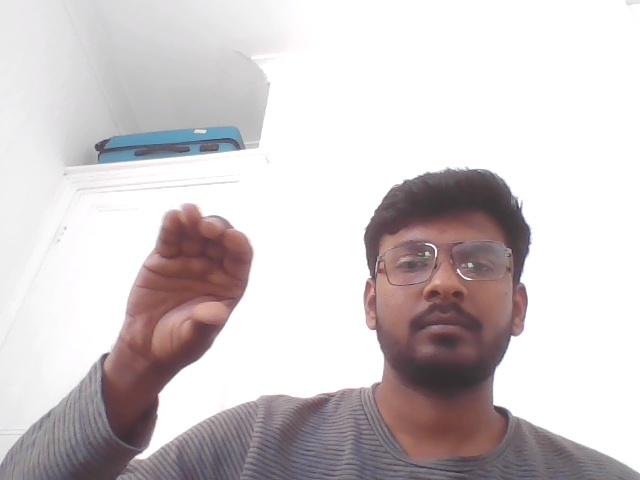No: (66, 174, 274, 415)
